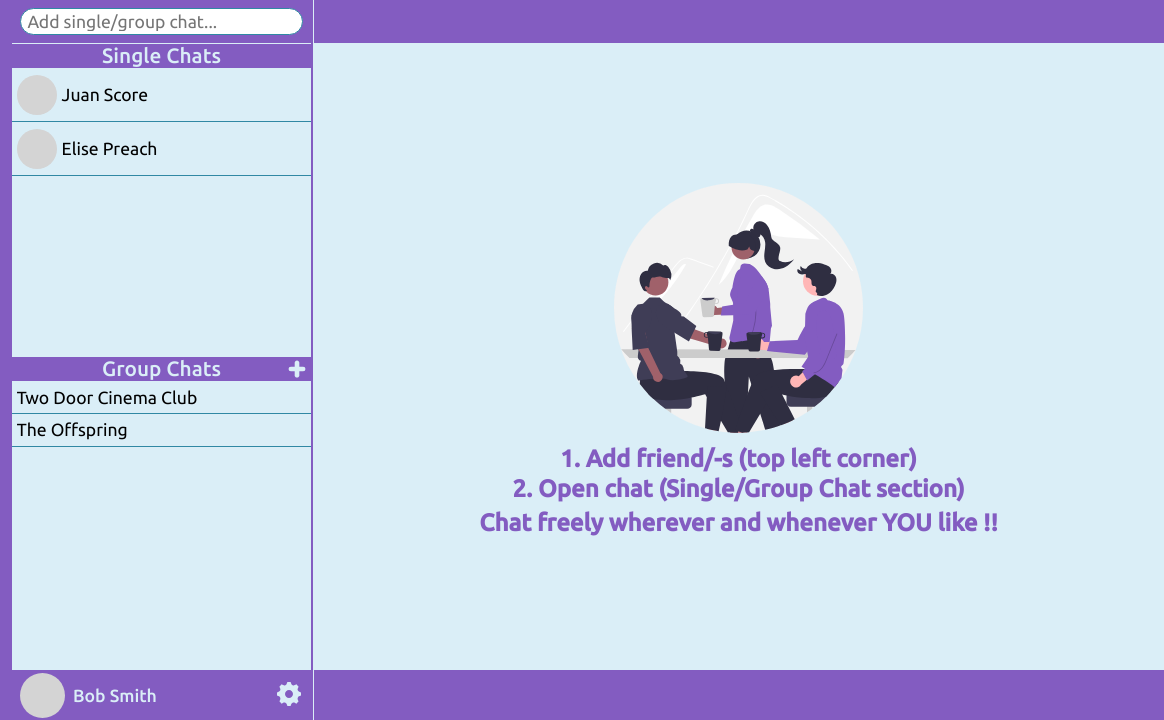
MainHub component tests › Test chat change
expect the text "Juan Score" is shown: met, box [62,85,148,104]
expect the number of buttons with test id "groupTiles" is 2: met, box [12,381,311,414]; [12,414,311,447]
Click the button with test id "singleTiles" showing "Juan Score" at (37, 95), box [12,68,311,122]
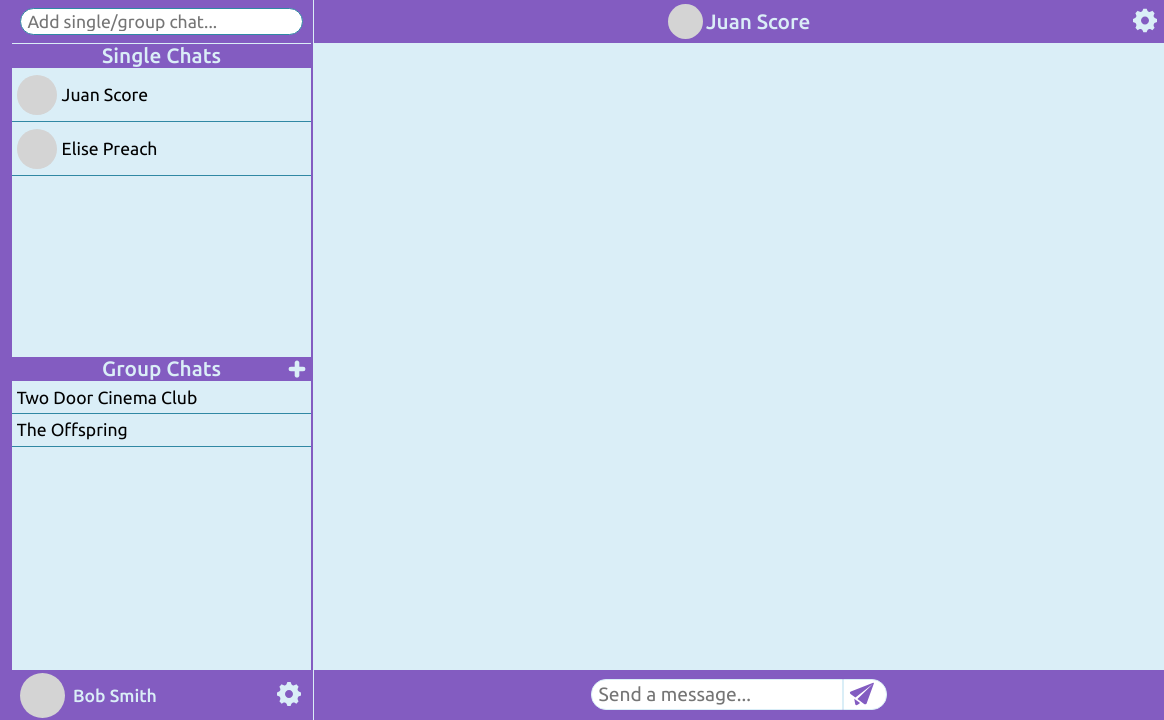
expect the text with test id "chatName" reads "Juan Score": met, box [706,10,810,33]
